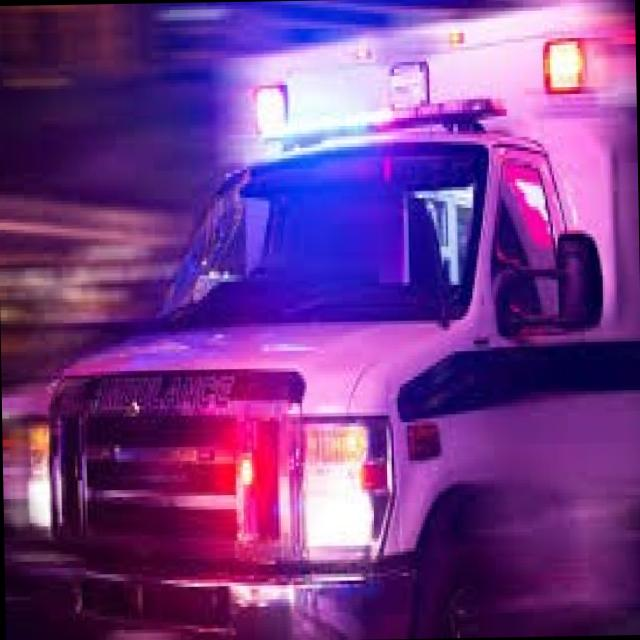ambulance: (212, 11, 614, 180)
